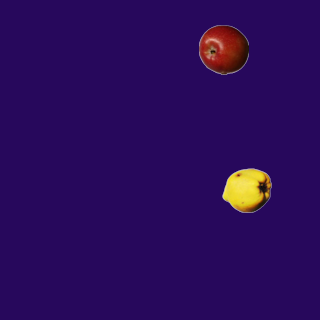Apple Braeburn: (198, 24, 248, 74)
Quince: (221, 165, 271, 215)
